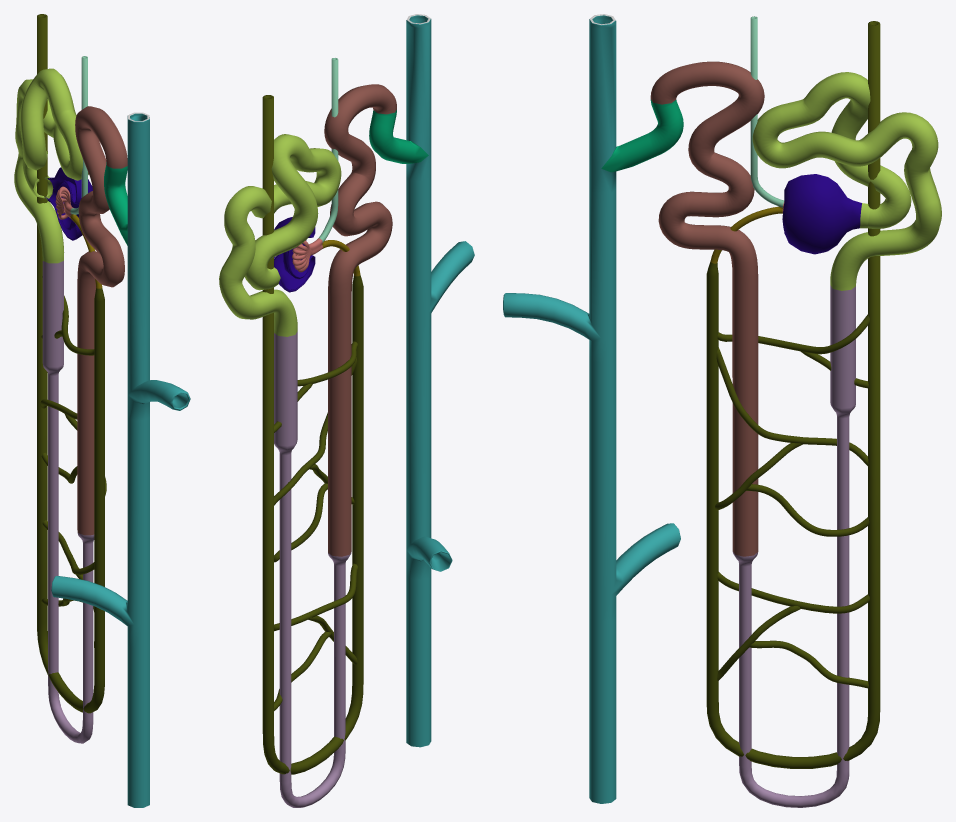
Rendered from Nefrona_anatomia.glb.
3 renders of one model, left to right at view 1: azimuth 30°, elevation 25°; view 2: azimuth 150°, elevation 25°; view 3: azimuth 270°, elevation 25°, orthographic. The views are drawn at different scales.
Parts seen in each view (by area): view 1: nefrona; view 2: nefrona; view 3: nefrona.
Boxes of the visible parts, left/top/right/bottom form: nefrona: left=14, top=14, right=190, bottom=807; nefrona: left=219, top=14, right=474, bottom=807; nefrona: left=503, top=14, right=941, bottom=807.
Bounding box in the file's own units: 0.2388 × 1.48 × 0.75.
